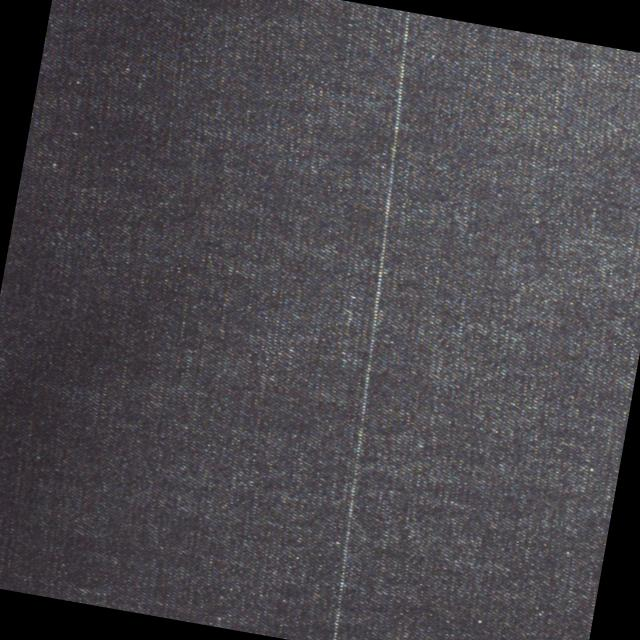Warp_Weft: (288, 9, 453, 640)
